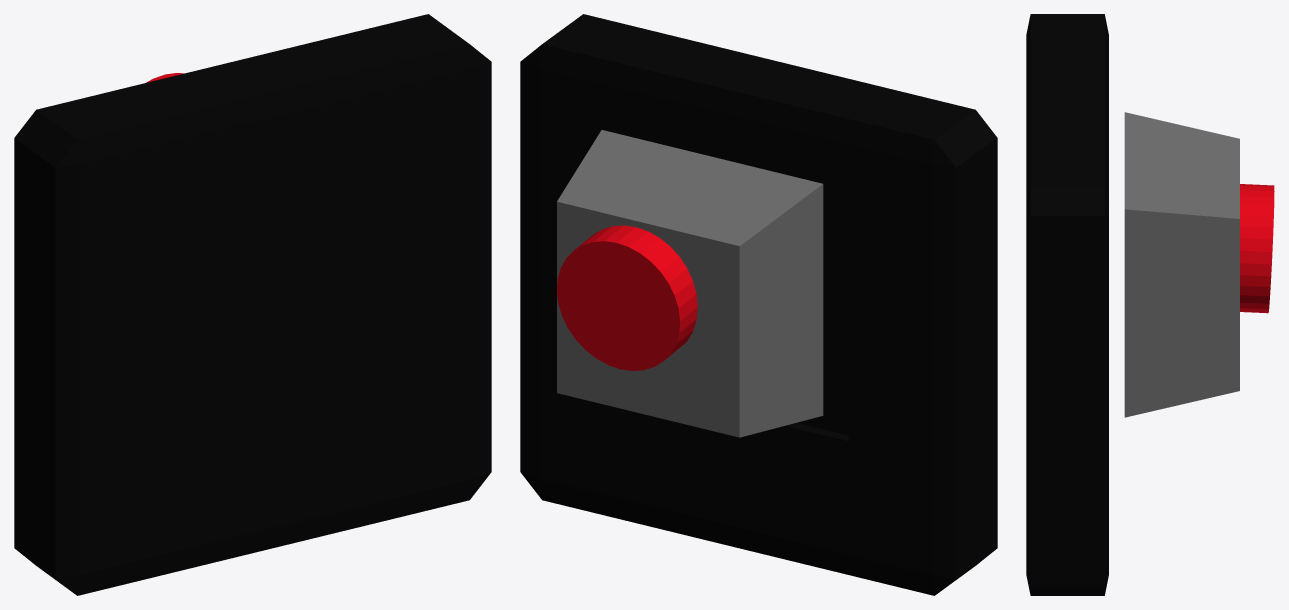
Rendered from Button.fbx.
The picture shows the model from 3 angles, left to right: view 1: azimuth 30°, elevation 25°; view 2: azimuth 150°, elevation 25°; view 3: azimuth 270°, elevation 25°; orthographic projection. The views are drawn at different scales.
Parts seen in each view (by area): view 1: Cube.002; view 2: Cube.002, Cube.001, Cylinder; view 3: Cube.002, Cube.001, Cylinder.
Boxes of the visible parts, box(x1,y1,x2,y2) form: Cube.002: box(14, 14, 491, 595); Cube.002: box(520, 14, 997, 595); Cube.001: box(557, 130, 823, 437); Cylinder: box(556, 225, 697, 370); Cube.002: box(1026, 14, 1108, 595); Cube.001: box(1124, 112, 1239, 417); Cylinder: box(1240, 184, 1274, 313).
Size of the model in its own units: 200 by 200 by 110.
